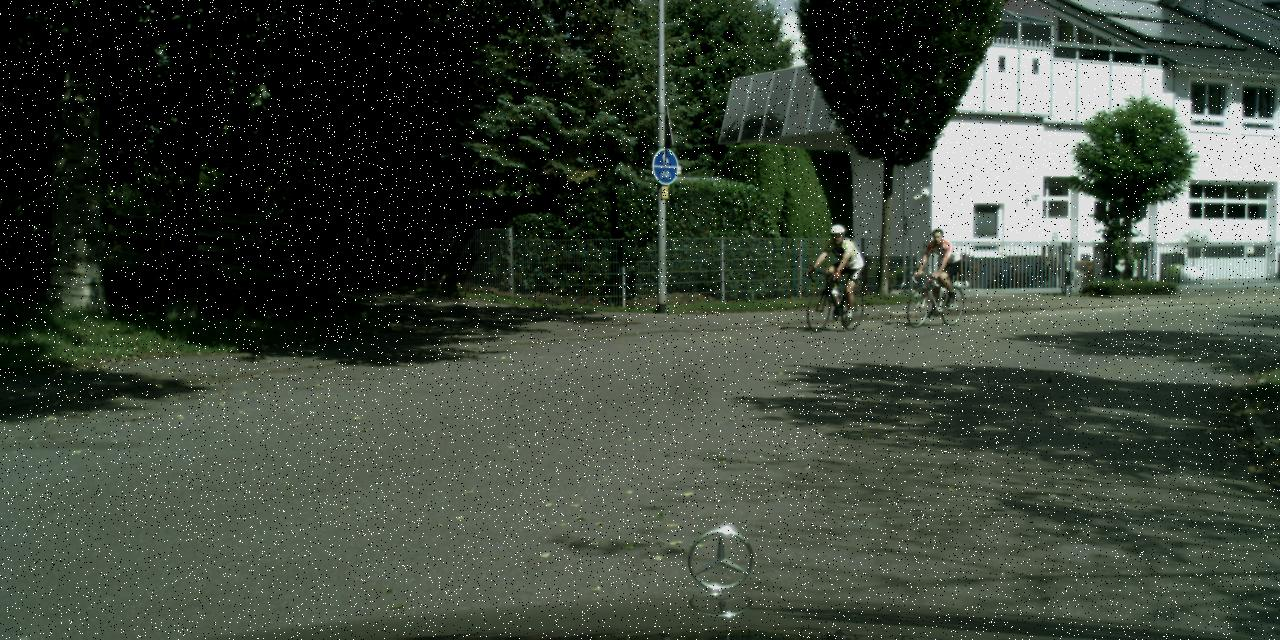ped: (821, 224, 857, 314), (922, 228, 956, 310)
